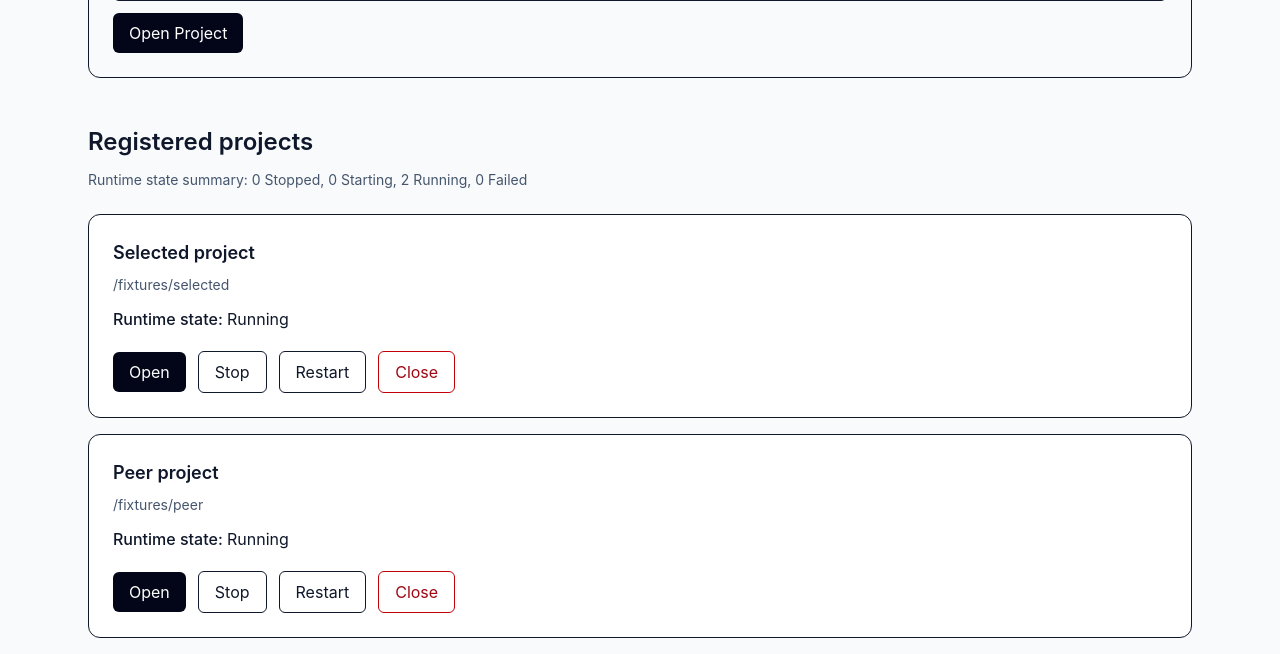
Scenario: Project Home selected Stop interaction › renders only the client-owned project_not_found rejection and does not refresh
(page scrolled)
Expected: the text labelled "Runtime state summary" is shown, [88,171,527,188]
Click the button with aria-label "Stop Selected project workbench": {"x": 232, "y": 372} [198,351,266,393]
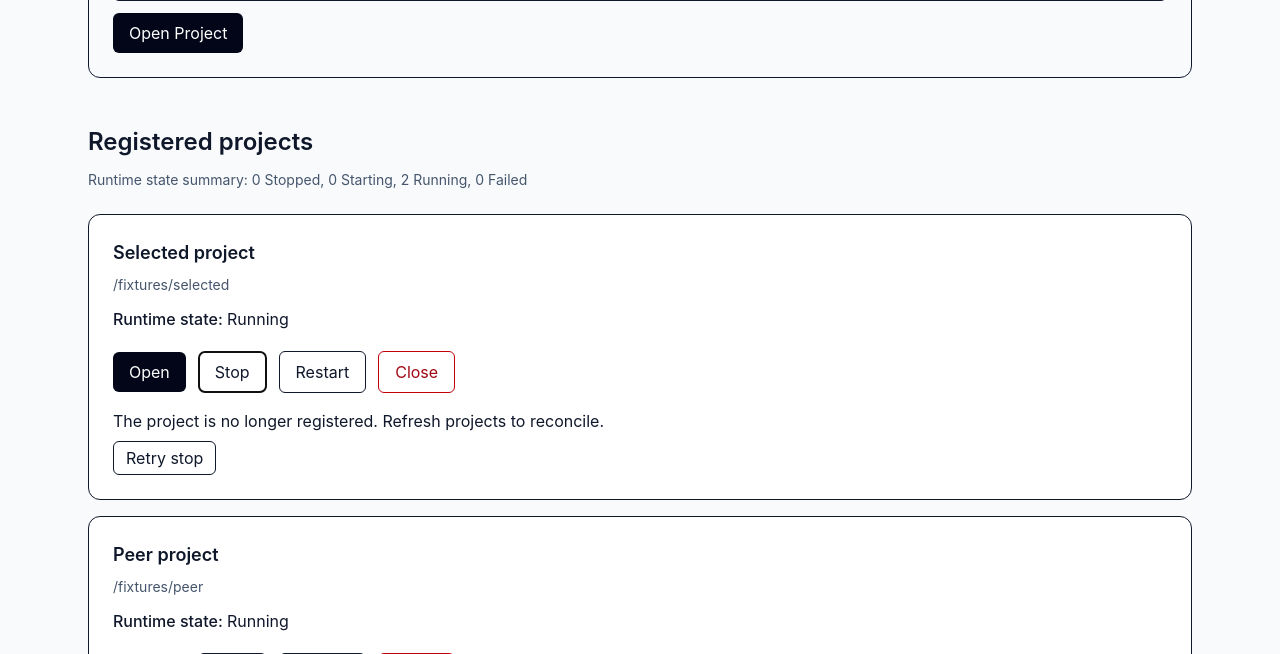
Expected: the list item named "Stop Selected project workbench" shows "Selected project", [113,242,255,263]
Expected: the message shows "The project is no longer registered. Refresh projects to reconcile.", [113,411,604,431]
Expected: the button "Retry stop" is shown, [113,441,216,475]
